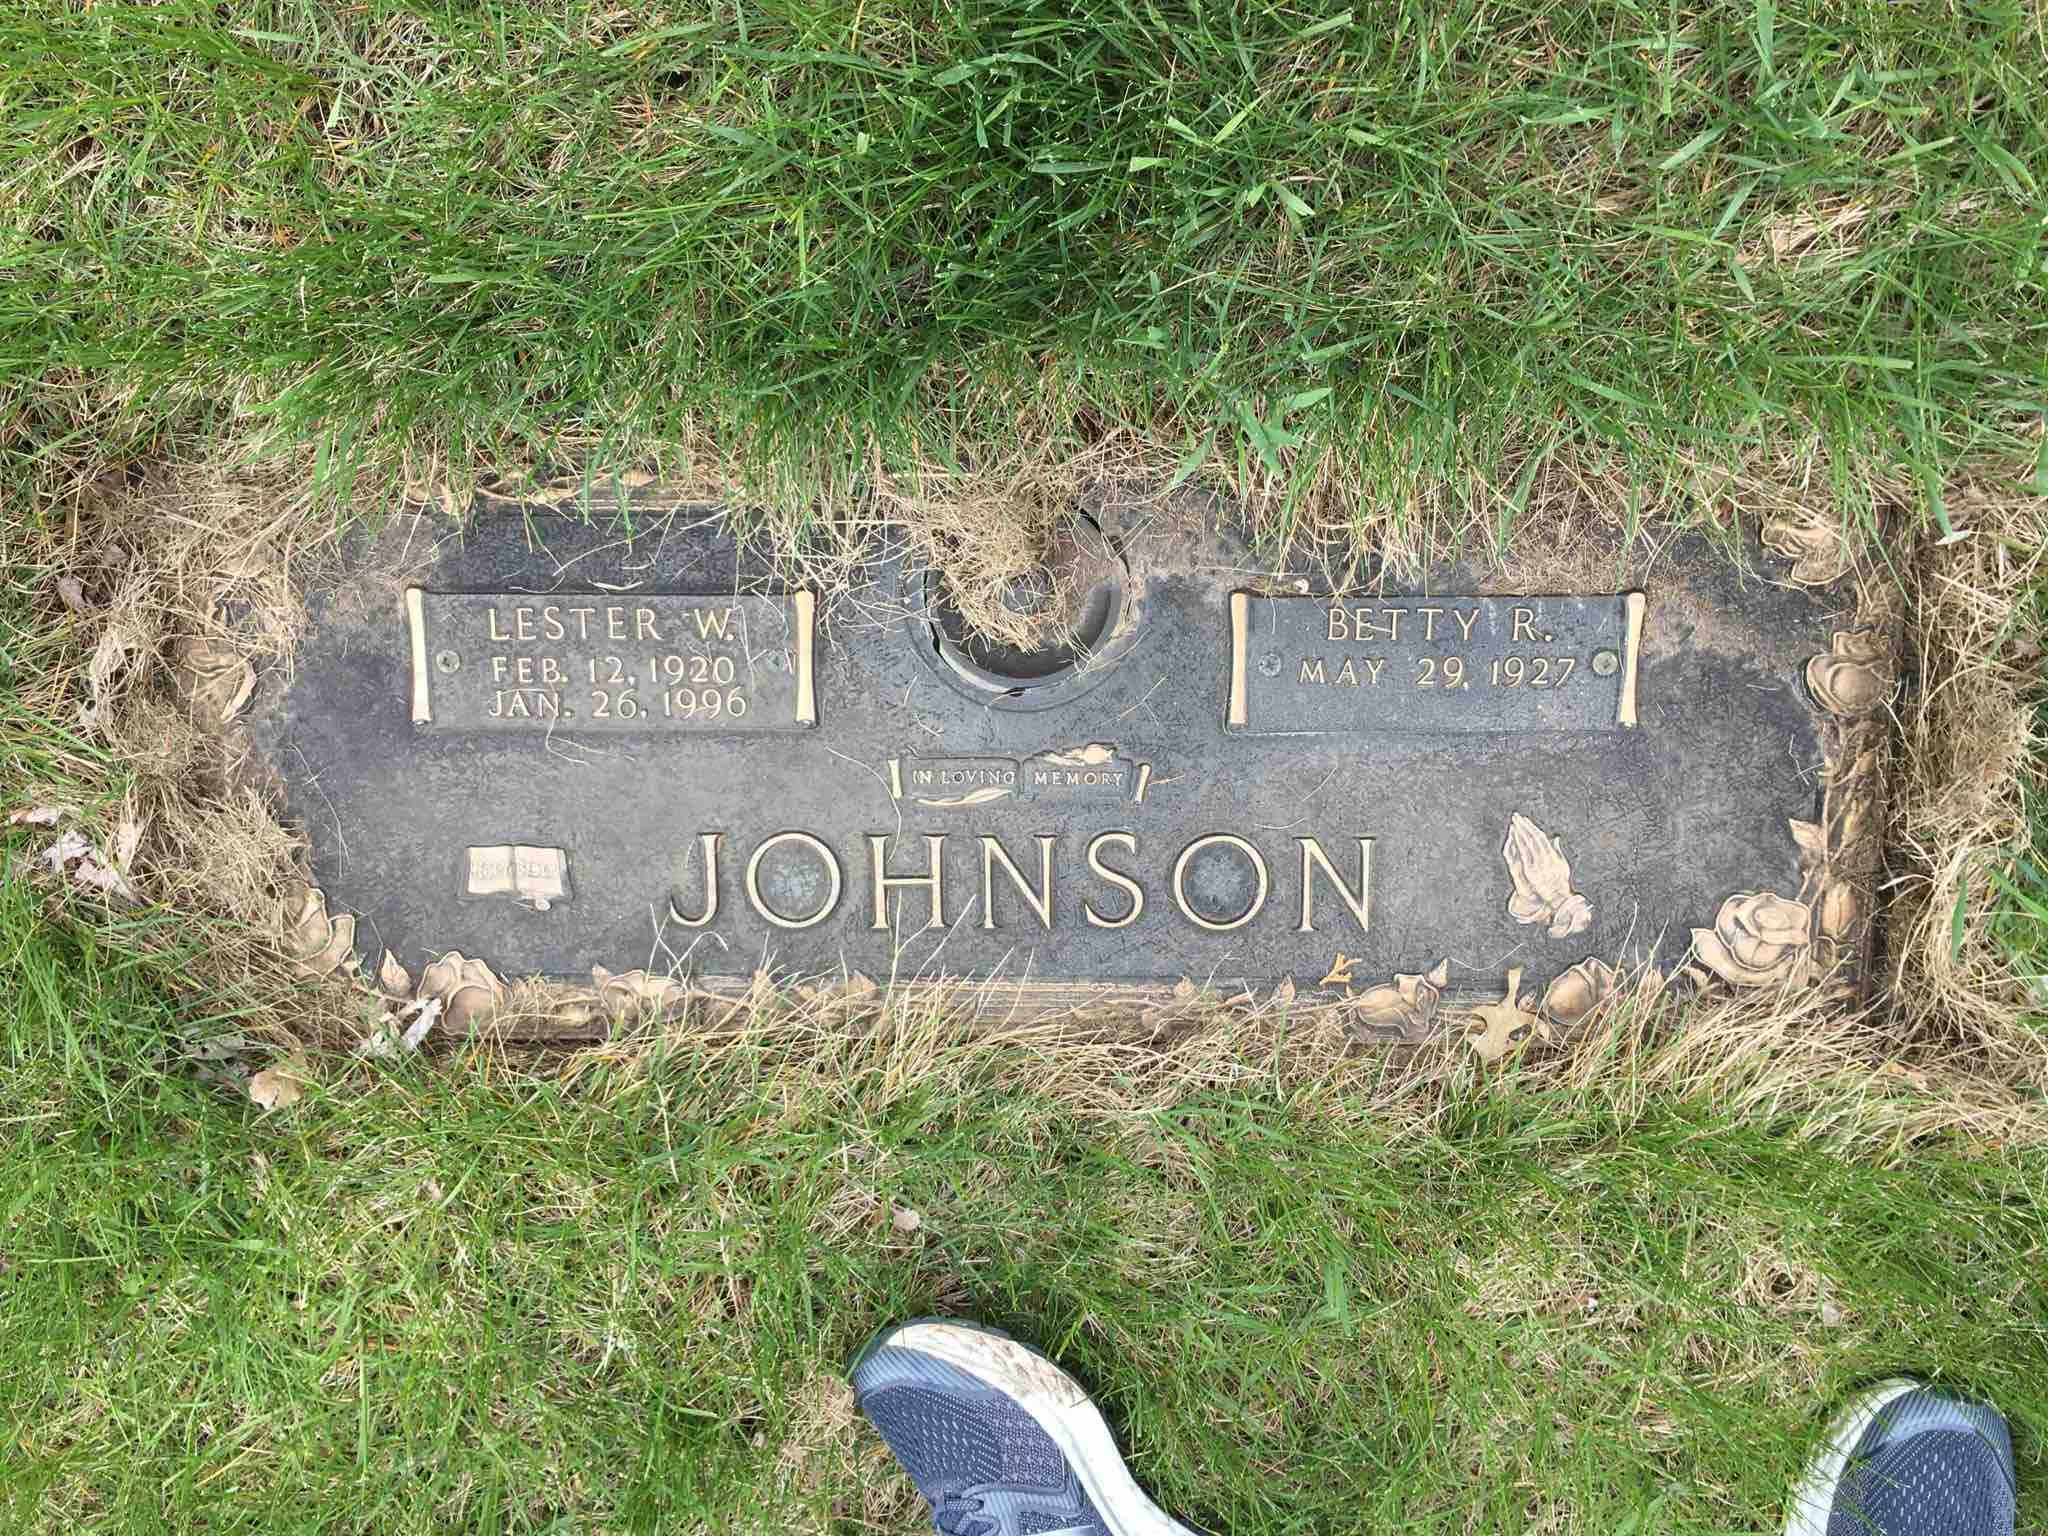flat: (216, 484, 1921, 1028)
